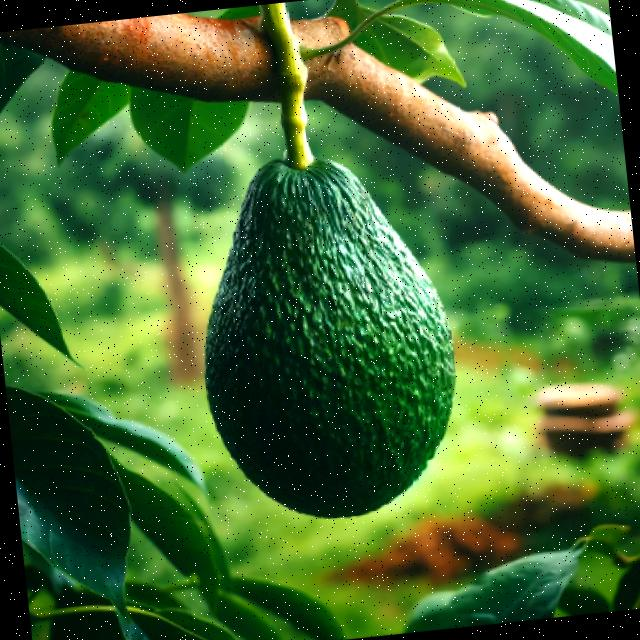fruit: (204, 161, 455, 521)
peduncle: (264, 2, 315, 170)
